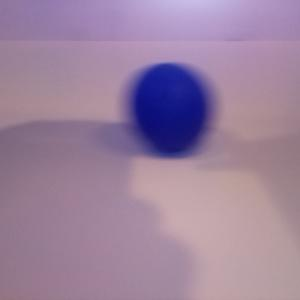dead_ball: (133, 61, 206, 153)
